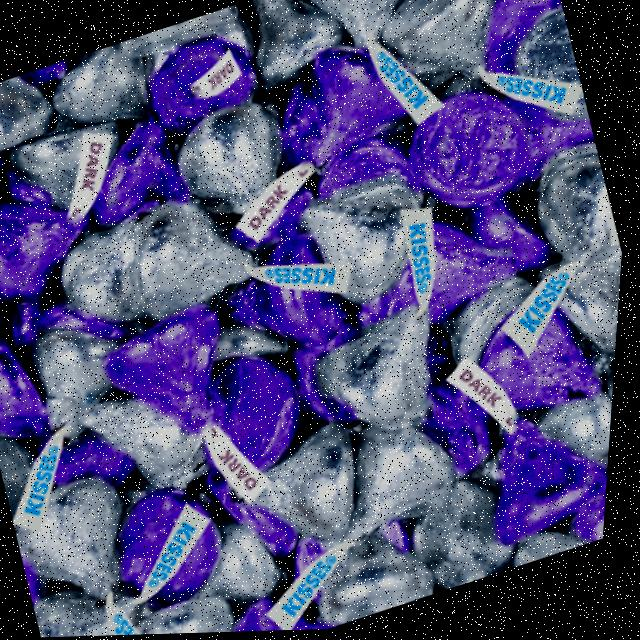kisses: (218, 406, 389, 576), (115, 172, 286, 332), (7, 460, 164, 625), (305, 294, 466, 453), (163, 83, 310, 238), (77, 368, 225, 514), (328, 405, 478, 549), (362, 0, 524, 118), (7, 311, 136, 457), (311, 520, 459, 632), (5, 114, 136, 233), (513, 144, 629, 276), (39, 34, 170, 149), (490, 8, 598, 146), (46, 217, 159, 345), (410, 473, 531, 591), (530, 237, 627, 380), (231, 0, 364, 98), (35, 557, 186, 638), (302, 0, 441, 67), (129, 581, 261, 636), (0, 69, 59, 166)
